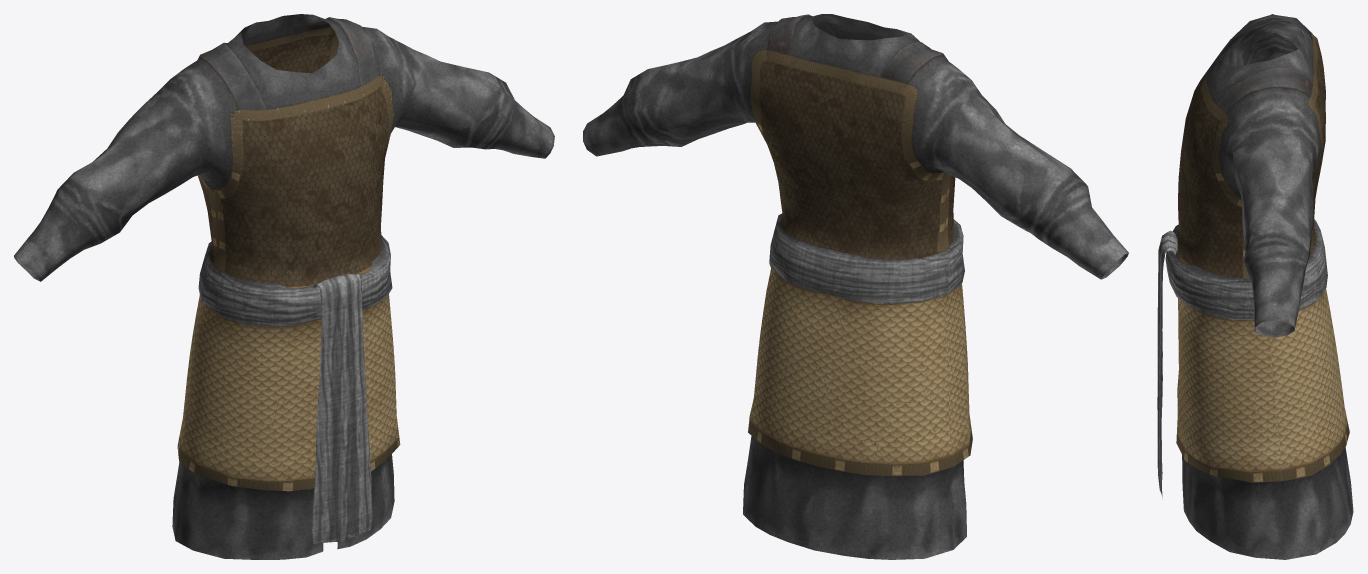
The model's file is clo_harad03_torso.fbx.
3 views of the same model, side by side, from view 1: azimuth 30°, elevation 25°; view 2: azimuth 150°, elevation 25°; view 3: azimuth 270°, elevation 25° (orthographic). The views are drawn at different scales.
Visible parts, largest first — view 1: clo_harad03_torso; view 2: clo_harad03_torso; view 3: clo_harad03_torso.
Part boxes in pixels (x1=…): clo_harad03_torso: x1=14, y1=14, x2=554, y2=559; clo_harad03_torso: x1=583, y1=14, x2=1128, y2=559; clo_harad03_torso: x1=1157, y1=14, x2=1353, y2=559.
Bounding box in the file's own units: 1.23 × 0.4055 × 1.09.
Materials: 1 (1 with a texture image).
